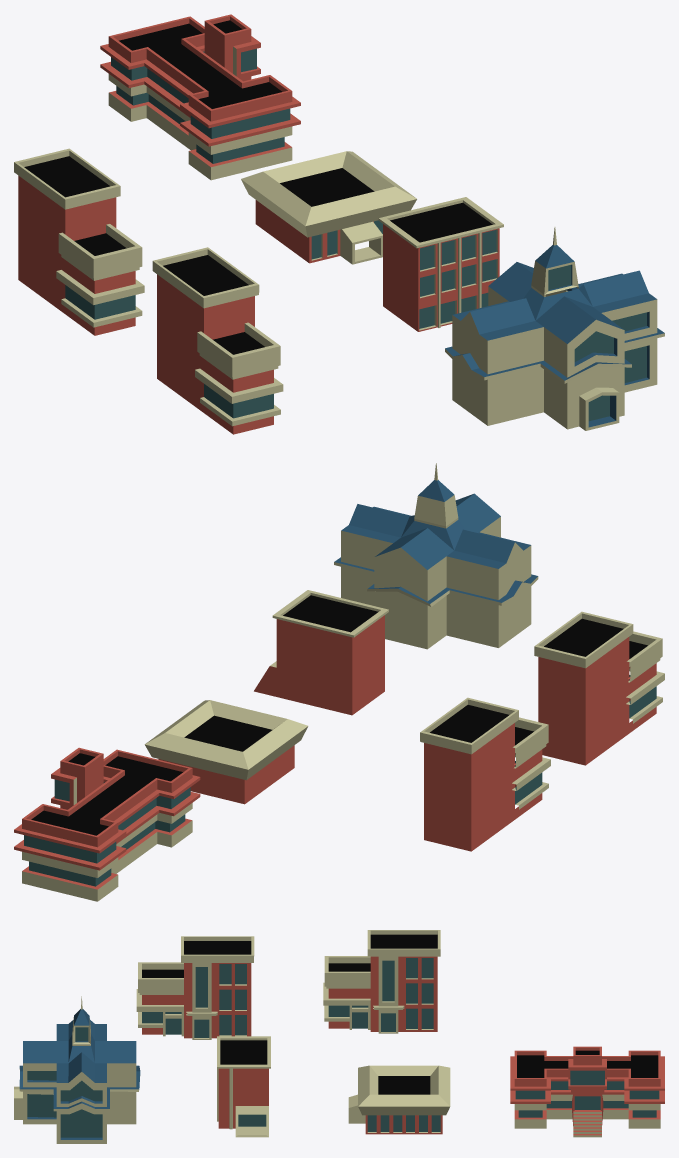
Rendered from AllSchools.fbx.
3 views of the same model, one above another, from view 1: azimuth 30°, elevation 25°; view 2: azimuth 150°, elevation 25°; view 3: azimuth 270°, elevation 25° (orthographic). The views are drawn at different scales.
Visible parts, largest first — view 1: S3, S4, School, School.001, S6, S1; view 2: S3, S4, School, School.001, S1, S6; view 3: S3, S4, School, School.001, S6, S1.
Part boxes in pixels (x1=…): S3: x1=445, y1=227, x2=664, y2=430; S4: x1=100, y1=14, x2=300, y2=180; School: x1=14, y1=148, x2=144, y2=335; School.001: x1=152, y1=247, x2=283, y2=434; S6: x1=241, y1=151, x2=416, y2=264; S1: x1=378, y1=197, x2=503, y2=331; S3: x1=334, y1=463, x2=538, y2=649; S4: x1=14, y1=747, x2=200, y2=901; School: x1=420, y1=697, x2=550, y2=851; School.001: x1=534, y1=611, x2=664, y2=765; S1: x1=254, y1=590, x2=388, y2=715; S6: x1=144, y1=700, x2=308, y2=804; S3: x1=14, y1=996, x2=140, y2=1143; S4: x1=510, y1=1046, x2=664, y2=1137; School: x1=323, y1=930, x2=440, y2=1033; School.001: x1=136, y1=936, x2=254, y2=1039; S6: x1=348, y1=1065, x2=450, y2=1134; S1: x1=217, y1=1036, x2=270, y2=1137.
Size of the model in its own units: 37.57 by 16.03 by 77.52.
Materials: 1 (1 with a texture image).
